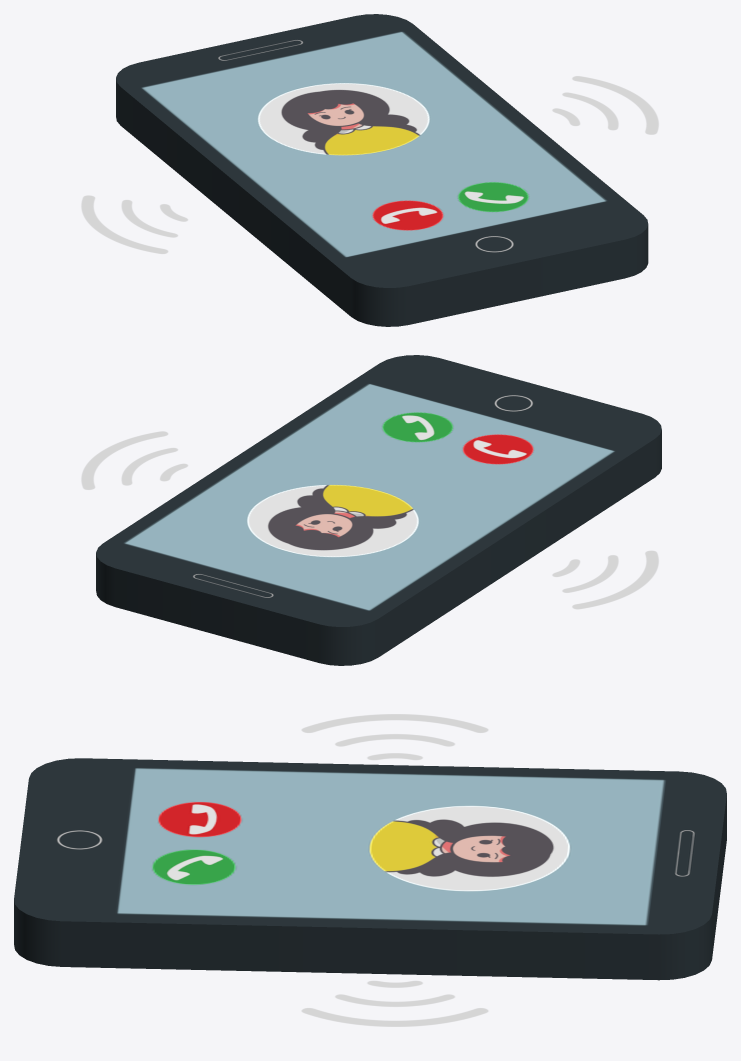
File: phone_2.glb
3 views of the same model, one above another, from view 1: azimuth 30°, elevation 25°; view 2: azimuth 150°, elevation 25°; view 3: azimuth 270°, elevation 25° (orthographic). The views are drawn at different scales.
Parts seen in each view (by area): view 1: phone_0, Object_6, Object_8; view 2: phone_0, Object_6, Object_8; view 3: phone_0, Object_6, Object_8.
Part boxes in pixels (x1,y1,x2,y2): phone_0: [116, 14, 648, 326]; Object_6: [81, 195, 187, 253]; Object_8: [552, 76, 658, 134]; phone_0: [96, 355, 661, 665]; Object_6: [552, 550, 658, 609]; Object_8: [81, 431, 187, 489]; phone_0: [14, 758, 726, 980]; Object_6: [301, 714, 488, 759]; Object_8: [301, 981, 488, 1026].
Size of the model in its own units: 0.1989 by 0.012 by 0.1702.
Materials: 1 (1 with a texture image).
